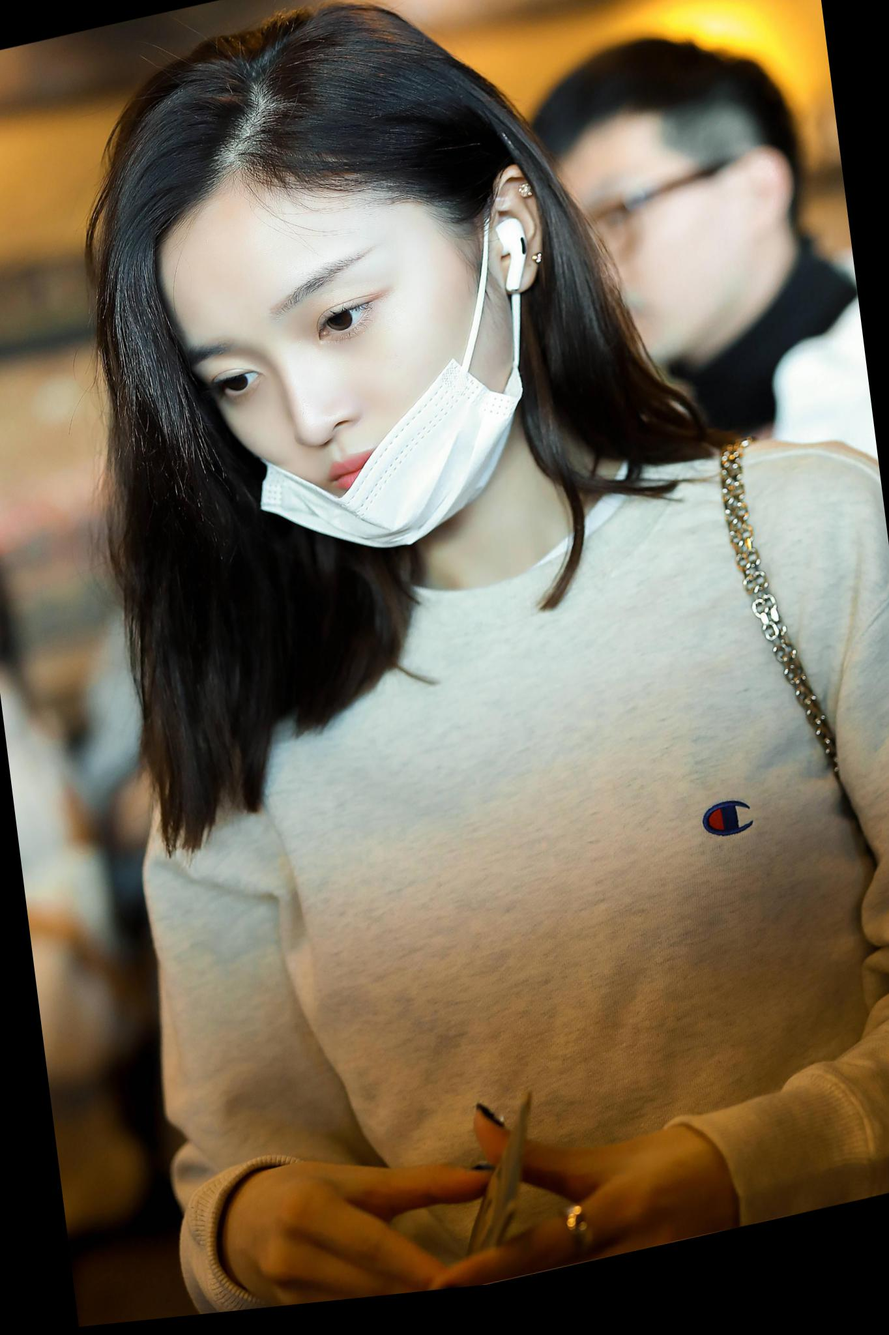NONE: (505, 164, 704, 412)
WRONG: (161, 190, 513, 590)
